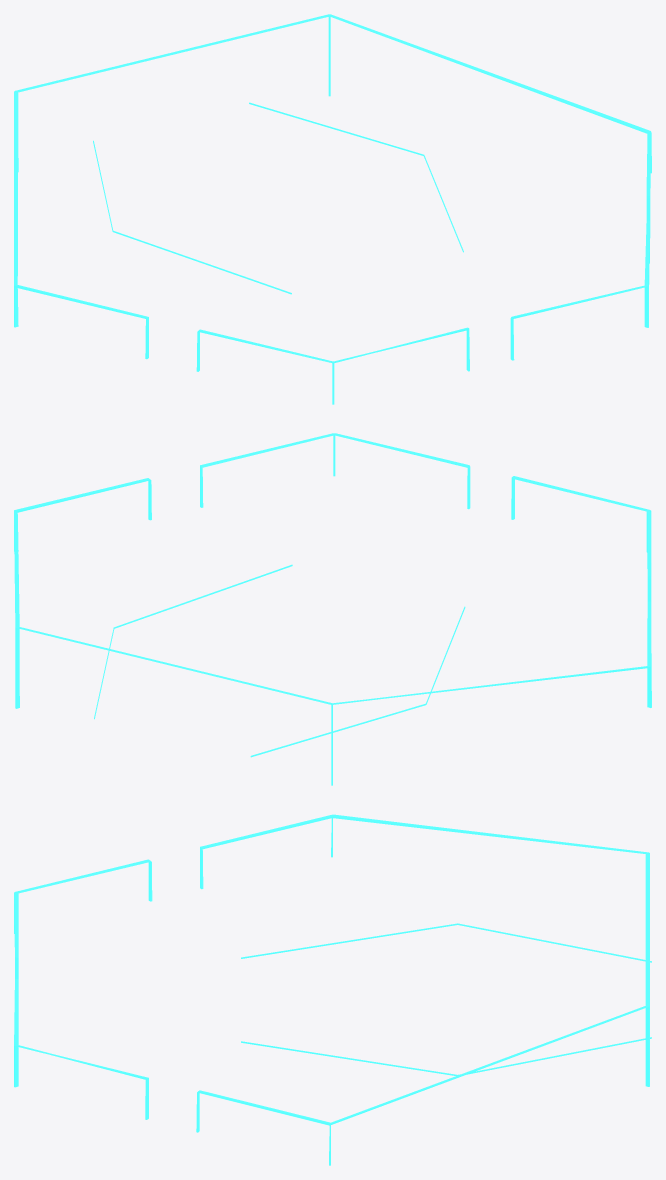
File: DiscoLights.fbx
3 views of the same model, one above another, from view 1: azimuth 30°, elevation 25°; view 2: azimuth 150°, elevation 25°; view 3: azimuth 270°, elevation 25° (orthographic).
Visible parts, largest first — view 1: ExteriorWalls.006, HallFloor.007; view 2: ExteriorWalls.006, HallFloor.007; view 3: ExteriorWalls.006, HallFloor.007.
Boxes of the visible parts, x1=… form: ExteriorWalls.006: x1=14, y1=14, x2=651, y2=404; HallFloor.007: x1=93, y1=102, x2=463, y2=294; ExteriorWalls.006: x1=14, y1=433, x2=651, y2=785; HallFloor.007: x1=94, y1=564, x2=465, y2=757; ExteriorWalls.006: x1=14, y1=814, x2=649, y2=1165; HallFloor.007: x1=241, y1=923, x2=651, y2=1075.
Bounding box in the file's own units: 48.19 × 5.84 × 41.95.
